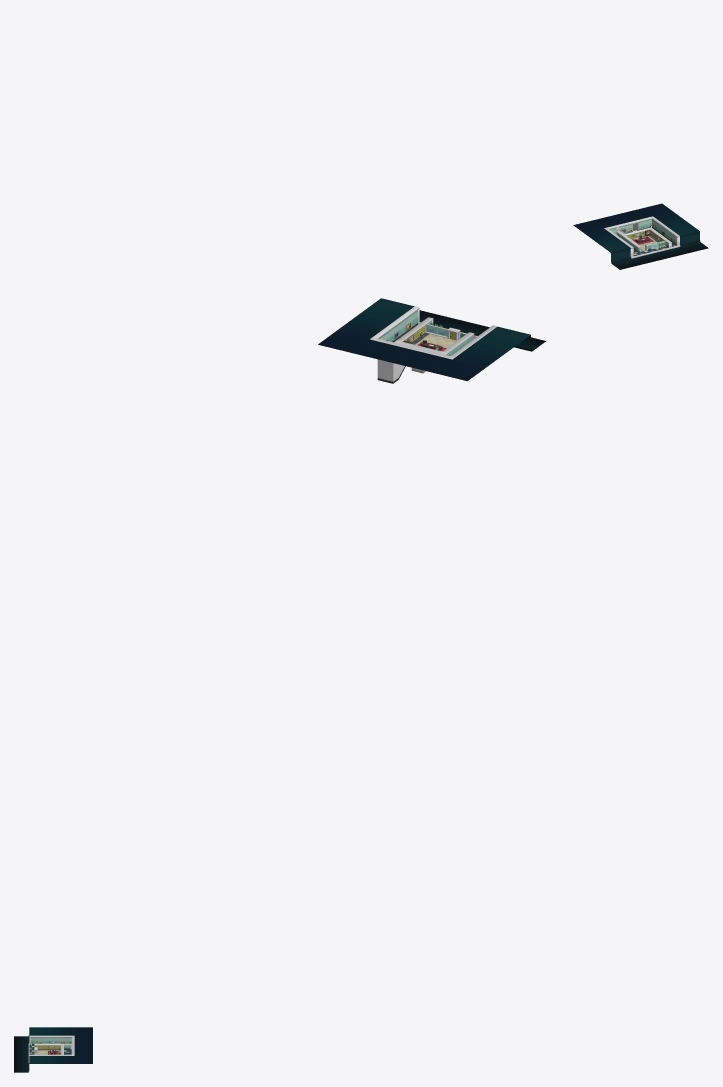
3 views of the same model, one above another, from view 1: azimuth 30°, elevation 25°; view 2: azimuth 150°, elevation 25°; view 3: azimuth 270°, elevation 25° (orthographic). The views are drawn at different scales.
Parts seen in each view (by area): view 1: combg01_01, a410a9be410b7eec52cb7a8d, bce44350994878c830c6ed5; view 2: combg01_01, a410a9be410b7eec52cb7a8d; view 3: combg01_01, a410a9be410b7eec52cb7a8d, bce44350994878c830c6ed5.
Part boxes in pixels (left/top/right/bottom): combg01_01: left=573, top=203, right=708, bottom=269; a410a9be410b7eec52cb7a8d: left=604, top=216, right=680, bottom=258; bce44350994878c830c6ed5: left=610, top=219, right=676, bottom=252; combg01_01: left=318, top=298, right=545, bottom=380; a410a9be410b7eec52cb7a8d: left=370, top=306, right=497, bottom=359; combg01_01: left=14, top=1027, right=92, bottom=1072; a410a9be410b7eec52cb7a8d: left=28, top=1035, right=74, bottom=1062; bce44350994878c830c6ed5: left=30, top=1037, right=71, bottom=1049.
Size of the model in its own units: 10331 by 541 by 26178.
Materials: 48 (47 with a texture image).
